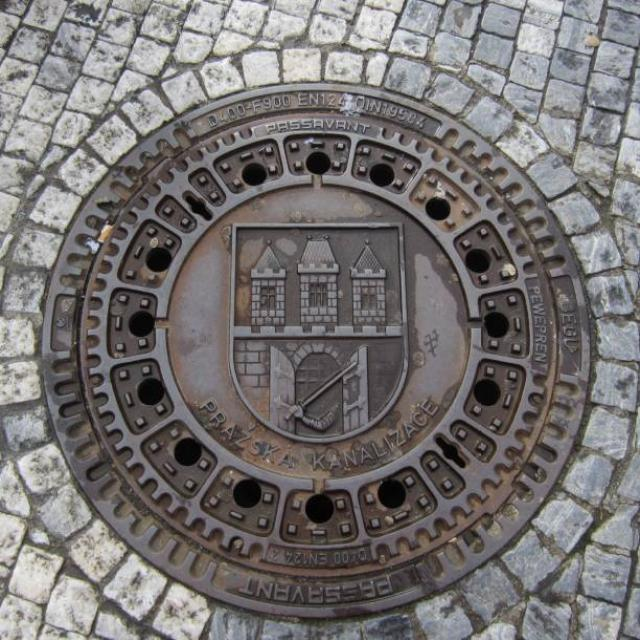Good: (37, 71, 602, 624)
